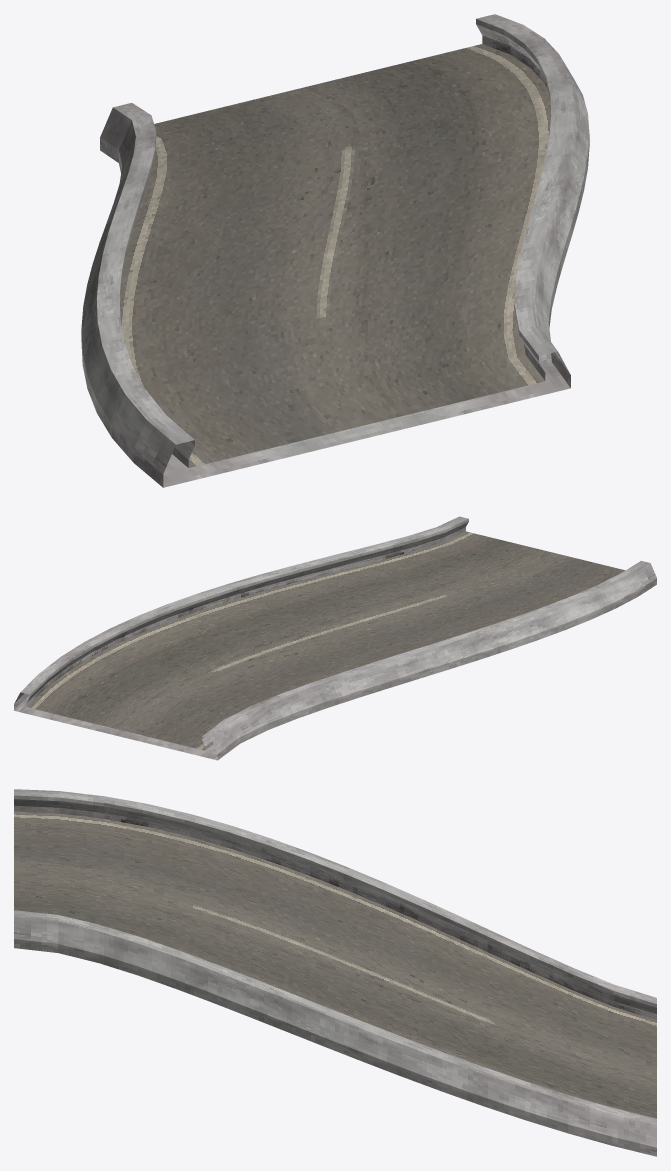
File: chicane-right1x2.glb
3 renders of one model, top to bottom at view 1: azimuth 30°, elevation 25°; view 2: azimuth 150°, elevation 25°; view 3: azimuth 270°, elevation 25°, orthographic. The views are drawn at different scales.
Visible parts, largest first — view 1: road-Chicane-Flat-BiSlopeDown-Down1-Right1-Size2; view 2: road-Chicane-Flat-BiSlopeDown-Down1-Right1-Size2; view 3: road-Chicane-Flat-BiSlopeDown-Down1-Right1-Size2.
Boxes of the visible parts, box(x1,y1,x2,y2) form: road-Chicane-Flat-BiSlopeDown-Down1-Right1-Size2: box(81, 14, 589, 487); road-Chicane-Flat-BiSlopeDown-Down1-Right1-Size2: box(14, 516, 656, 760); road-Chicane-Flat-BiSlopeDown-Down1-Right1-Size2: box(14, 789, 656, 1156).
Bounding box in the file's own units: 2 × 0.3438 × 2.
2 materials, 2 textured.
